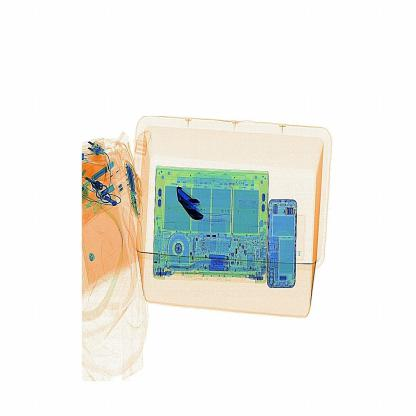pliers: (172, 172, 209, 235)
